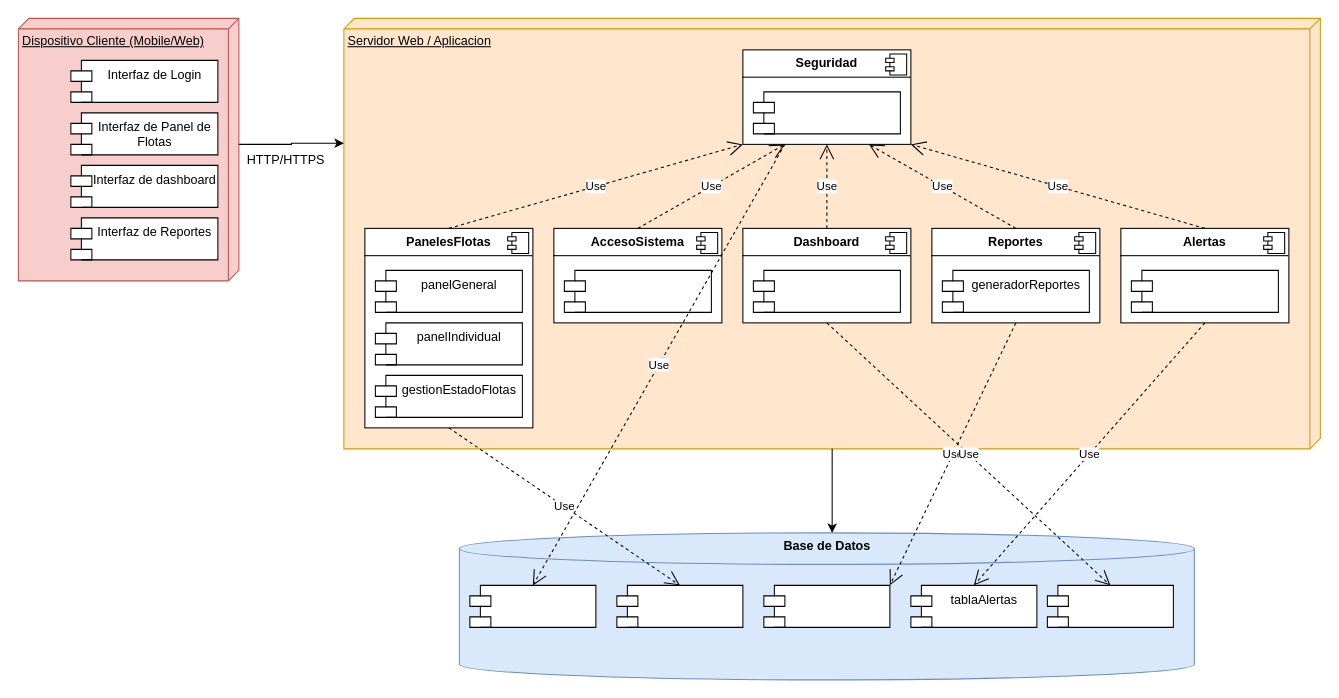
This 1339x698 diagram has some shape labels left out. Each missing label, with the centre of its shape:
KPIsVisuales: point (826, 290)
loginAdministrador: point (826, 112)
motorAlertas: point (1204, 290)
tablaFlotas: point (679, 605)
tablaReportes: point (826, 605)
tablaRotaciones: point (1109, 605)
tablaUsuarios: point (532, 605)
ventanaAcceso: point (637, 290)
